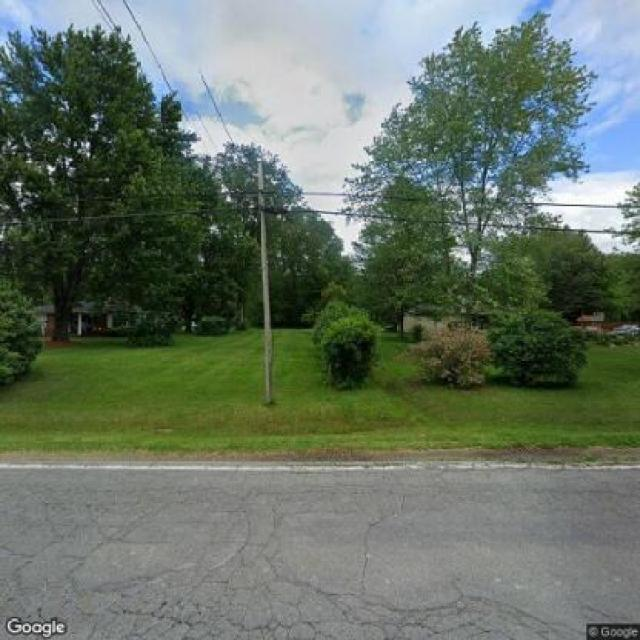pole: (238, 156, 298, 404)
